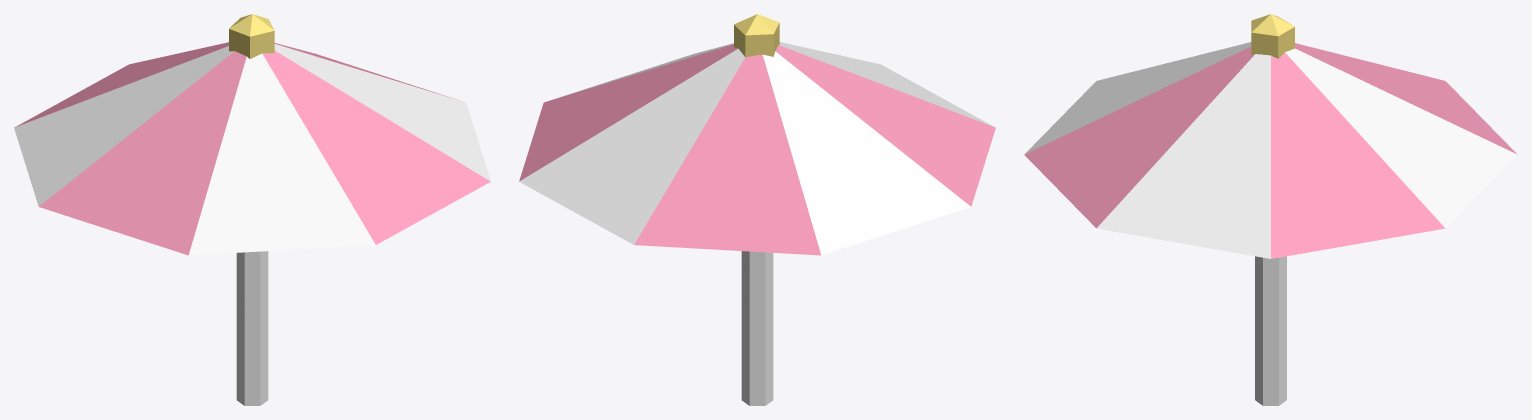
File: CF_Umbrella.fbx
3 views of the same model, side by side, from view 1: azimuth 30°, elevation 25°; view 2: azimuth 150°, elevation 25°; view 3: azimuth 270°, elevation 25° (orthographic).
Parts seen in each view (by area): view 1: CF_Umbrella_Stripe, CF_Umbrella_Canopy, CF_Umbrella_Pole, CF_Umbrella_Cap; view 2: CF_Umbrella_Canopy, CF_Umbrella_Stripe, CF_Umbrella_Pole, CF_Umbrella_Cap; view 3: CF_Umbrella_Stripe, CF_Umbrella_Canopy, CF_Umbrella_Pole, CF_Umbrella_Cap.
Part boxes in pixels (box(x1,y1,x2,y2)): CF_Umbrella_Stripe: box(14, 44, 490, 255); CF_Umbrella_Canopy: box(15, 42, 490, 255); CF_Umbrella_Pole: box(236, 251, 268, 405); CF_Umbrella_Cap: box(229, 14, 274, 58); CF_Umbrella_Canopy: box(519, 44, 995, 255); CF_Umbrella_Stripe: box(519, 42, 994, 255); CF_Umbrella_Pole: box(741, 251, 773, 405); CF_Umbrella_Cap: box(734, 14, 779, 57); CF_Umbrella_Stripe: box(1024, 42, 1517, 258); CF_Umbrella_Canopy: box(1024, 43, 1517, 258); CF_Umbrella_Pole: box(1255, 256, 1286, 405); CF_Umbrella_Cap: box(1251, 14, 1294, 58).
Size of the model in its own units: 6.2 by 5.35 by 6.2.
